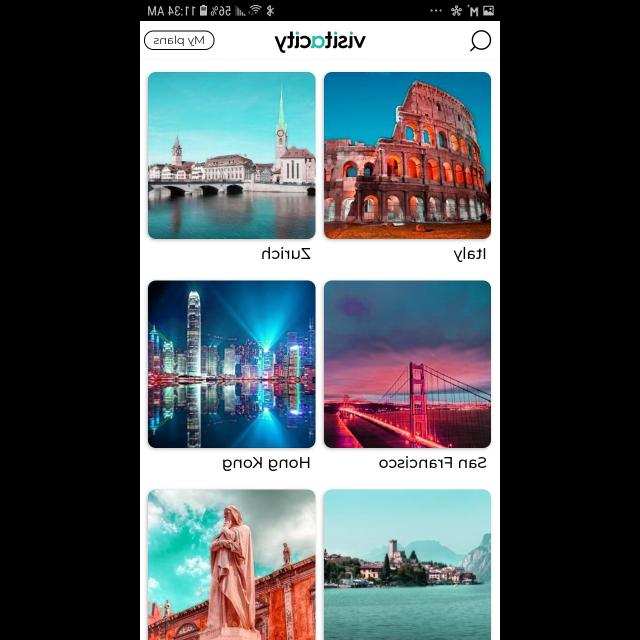icon: (470, 30, 490, 51)
image: (148, 280, 316, 448), (148, 72, 316, 240), (324, 72, 491, 240), (324, 282, 490, 448), (148, 490, 316, 640), (324, 490, 490, 640), (274, 31, 366, 53)
text: (222, 456, 310, 472), (378, 456, 486, 468), (262, 247, 310, 260), (453, 248, 485, 262)
textbutton: (143, 30, 214, 50)
uppertaskbar: (140, 1, 500, 22)
